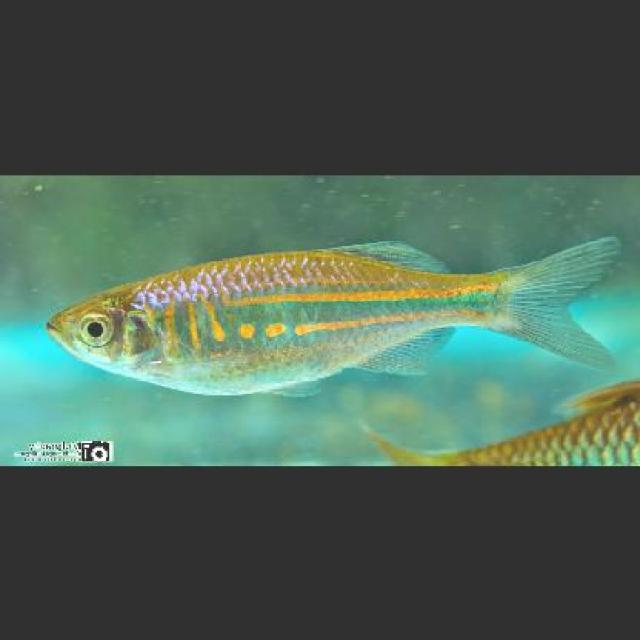ZebraFish: (37, 225, 621, 402)
